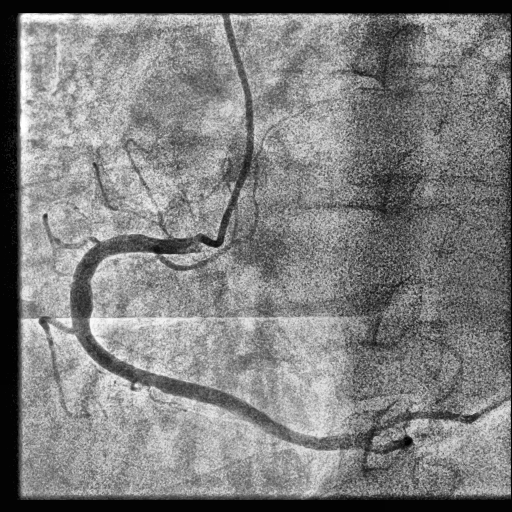rca: (71, 234, 370, 451)
